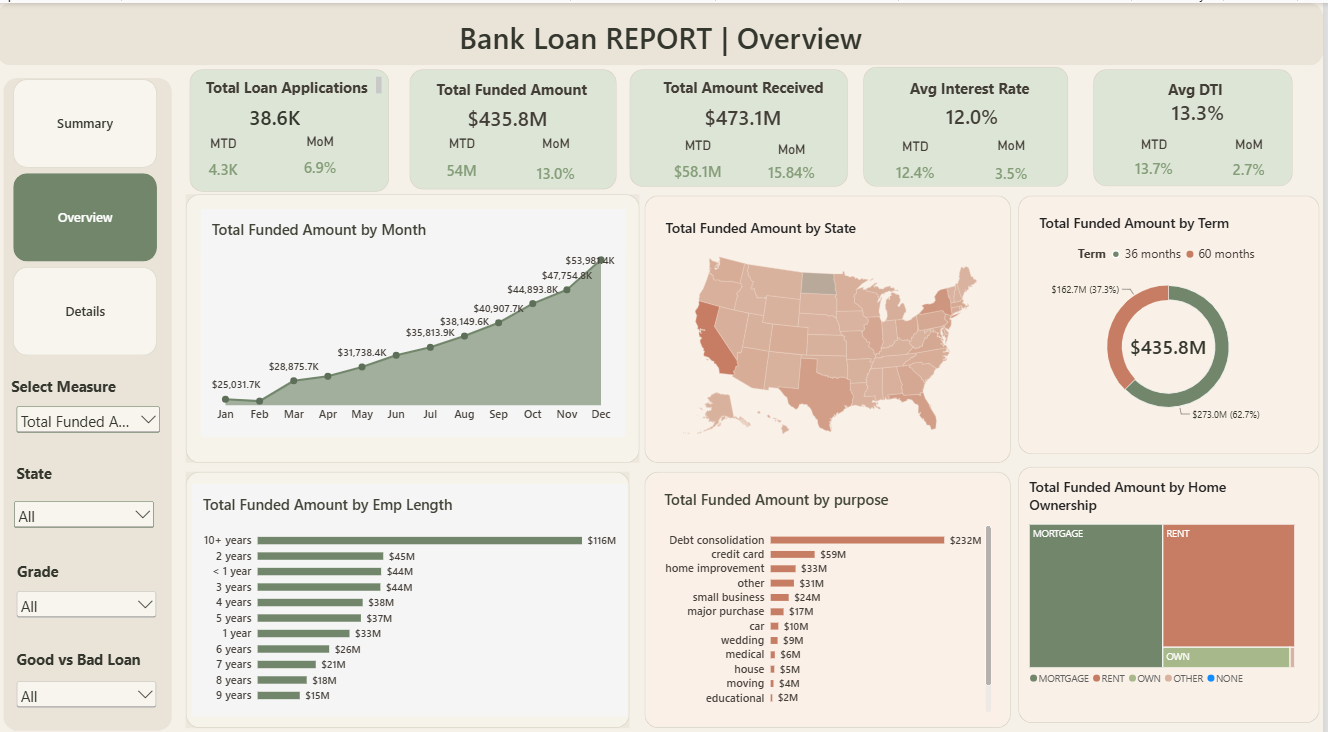

What the dashboard file says about the page in this screenshot:
{"tool":"powerbi","page":{"name":"Overview","canvas":[1920,1080],"ordinal":1},"visuals":[{"type":"shape","box":[1254.1,92.3,296.8,173.9],"z":0,"group":"g4"},{"type":"shape","box":[279.1,95.9,289.1,177.3],"z":0,"group":"g1"},{"type":"shape","box":[597.2,95.9,299.9,174.1],"z":0,"group":"g2"},{"type":"shape","box":[915.7,95.9,316.3,170.2],"z":0,"group":"g3"},{"type":"shape","box":[1587.1,95.9,288.7,169.5],"z":0,"group":"g5"},{"type":"shape","box":[273.3,678.6,642.4,371],"z":0},{"type":"shape","box":[0,0,1920.1,90.5],"z":1000},{"type":"cardVisual","fields":{"Data":["public bank_loan.Avg DTI"]},"box":[1639.8,129.4,198.1,58.3],"z":1000,"group":"g5"},{"type":"cardVisual","fields":{"Data":["public bank_loan.Avg Interest Rate"]},"box":[1292.2,132.6,239.9,61.8],"z":1000,"group":"g4"},{"type":"cardVisual","fields":{"Data":["public bank_loan.Total Amount Received"]},"box":[946.6,133.5,267.5,60.6],"z":1000,"group":"g3"},{"type":"cardVisual","fields":{"Data":["public bank_loan.Total Funded Amount"]},"box":[617.1,134.8,244.7,60.2],"z":1000,"group":"g2"},{"type":"textbox","box":[1283.8,109.1,255.8,34.5],"z":2000,"group":"g4"},{"type":"textbox","box":[1617.8,111.1,240.1,33.7],"z":2000,"group":"g5"},{"type":"cardVisual","fields":{"Data":["public bank_loan.Total Loan Applications"]},"box":[307.1,133.1,189.5,60.4],"z":2000,"group":"g1"},{"type":"shape","box":[9,108.6,244.3,944.6],"z":3000},{"type":"textbox","box":[617.9,110.3,262,31.9],"z":3000,"group":"g2"},{"type":"cardVisual","title":"MTD","fields":{"Data":["public bank_loan.MTD Avg DTI"]},"box":[1604.4,192.8,139.3,69.1],"z":3000,"group":"g5"},{"type":"textbox","box":[289.1,106.9,267.4,26.1],"z":4000,"group":"g1"},{"type":"textbox","box":[924.3,107.1,317.2,46.6],"z":4000,"group":"g3"},{"type":"cardVisual","title":"MoM","fields":{"Data":["public bank_loan.MoM avg DTI"]},"box":[1749.2,192.8,124.6,70.7],"z":4000,"group":"g5"},{"type":"shape","box":[273.3,276.9,656.9,389.1],"z":4000},{"type":"textbox","box":[579.1,19.9,763.7,70.6],"z":5000},{"type":"group","id":"g1","title":"Group 1","box":[278.7,95.9,289.5,177.3],"z":6000},{"type":"group","id":"g2","title":"Group 3","box":[597.2,95.9,300.4,182.8],"z":7000},{"type":"group","id":"g3","title":"Group 4","box":[915.7,95.9,325.7,173.7],"z":8000},{"type":"group","id":"g4","title":"Group 5","box":[1254.1,92.3,296.8,181],"z":9000},{"type":"group","id":"g5","title":"Group 2","box":[1587.1,95.9,289.5,170.1],"z":10000},{"type":"cardVisual","title":"MoM","fields":{"Data":["public bank_loan.MoM Loan Application"]},"box":[409,190.3,117.1,72.8],"z":10000,"group":"g1"},{"type":"cardVisual","title":"MTD","fields":{"Data":["public bank_loan.MTD Funded Amound"]},"box":[616.3,191.4,111.7,77.9],"z":11000,"group":"g2"},{"type":"shape","box":[937.4,278.7,530.2,387.3],"z":11000},{"type":"cardVisual","title":"MoM","fields":{"Data":["public bank_loan.MoM Total funded Amount"]},"box":[740.1,191.4,137.8,86.7],"z":12000,"group":"g2"},{"type":"shapeMap","fields":{"Category":["public bank_loan.address_state"],"Value":["public bank_loan.Total Funded Amount"]},"box":[951.9,296.8,508.5,356.5],"z":12000},{"type":"slicer","fields":{"Values":["public bank_loan.address_state"]},"box":[20.3,716.7,212.5,74.6],"z":12000,"group":"g7"},{"type":"cardVisual","title":"MTD","fields":{"Data":["public bank_loan.MTD Total Amound Recieved"]},"box":[949.7,195.9,128.9,73.7],"z":13000,"group":"g3"},{"type":"shape","box":[1478.5,278.7,436.1,374.6],"z":13000},{"type":"textbox","box":[23.5,934.6,188.9,42.1],"z":13000,"group":"g7"},{"type":"cardVisual","title":"MoM","fields":{"Data":["public bank_loan.MoM Total Amount Recieved"]},"box":[1083.9,201.2,132.4,64.9],"z":14000,"group":"g3"},{"type":"donutChart","fields":{"Category":["public bank_loan.term"],"Y":["public bank_loan.Total Funded Amount"]},"box":[1493,289.5,405.4,342],"z":14000},{"type":"slicer","fields":{"Values":["public bank_loan.grade"]},"box":[23.5,846.7,212.5,74.6],"z":14000,"group":"g7"},{"type":"cardVisual","title":"MTD","fields":{"Data":["public bank_loan.MTD avg interest rate"]},"box":[1254.1,197.5,150.5,72],"z":15000,"group":"g4"},{"type":"areaChart","fields":{"Category":["Date Table.Month"],"Y":["public bank_loan.Total Funded Amount"]},"box":[295,298.6,615.3,329.4],"z":15000},{"type":"textbox","box":[10.9,665.5,85.9,52.2],"z":15000,"group":"g7"},{"type":"cardVisual","title":"MoM","fields":{"Data":["public bank_loan.MoM Avg Int Rate"]},"box":[1403.7,195,127.7,78.3],"z":16000,"group":"g4"},{"type":"clusteredBarChart","fields":{"Category":["public bank_loan.emp_length"],"Y":["public bank_loan.Total Funded Amount"]},"box":[282.3,696.7,630.6,336.2],"z":16000},{"type":"textbox","box":[10.9,806.5,102.3,51.6],"z":16000,"group":"g7"},{"type":"cardVisual","title":"MTD","fields":{"Data":["public bank_loan.MTD Funded Amount"]},"box":[278.7,192,97.3,72.8],"z":17000,"group":"g1"},{"type":"shape","box":[937.4,678.6,530.2,371],"z":17000},{"type":"slicer","fields":{"Values":["public bank_loan.Good Vs Bad Loan"]},"box":[23.5,976.7,212.5,78.4],"z":17000,"group":"g7"},{"type":"barChart","fields":{"Category":["public bank_loan.purpose"],"Y":["public bank_loan.Total Funded Amount"]},"box":[950.1,689.5,505.3,353.3],"z":18000},{"type":"slicer","fields":{"Values":["Select Measure.Select Measure"]},"box":[23.5,579,217.2,80.3],"z":19000,"group":"g7"},{"type":"shape","box":[1478.5,671.4,436.1,371],"z":19000},{"type":"textbox","box":[14,538.9,163.7,40.1],"z":20000,"group":"g7"},{"type":"treemap","fields":{"Group":["public bank_loan.home_ownership"],"Values":["public bank_loan.Total Funded Amount"]},"box":[1478.5,671.4,416,336.2],"z":20000},{"type":"group","id":"g6","title":"Group 7","box":[10.9,110.4,229.8,944.6],"z":20001},{"type":"pageNavigator","box":[23.3,110.4,208.6,401.9],"z":22000,"group":"g6"},{"type":"group","id":"g7","title":"Group 6","box":[10.9,538.9,229.8,516.1],"z":23000,"group":"g6"}]}

Visuals, with their boxes in screenshot pixels (x1, y1, x2, y2), scaled from the page's 1920x1080 canvas onto the 1328x732 screenshot:
shape: rect(867, 63, 1073, 180)
shape: rect(193, 65, 393, 185)
shape: rect(413, 65, 620, 183)
shape: rect(633, 65, 852, 180)
shape: rect(1098, 65, 1297, 180)
shape: rect(189, 460, 633, 711)
shape: rect(0, 0, 1327, 61)
cardVisual - public bank_loan.Avg DTI: rect(1134, 88, 1271, 127)
cardVisual - public bank_loan.Avg Interest Rate: rect(894, 90, 1060, 132)
cardVisual - public bank_loan.Total Amount Received: rect(655, 90, 840, 132)
cardVisual - public bank_loan.Total Funded Amount: rect(427, 91, 596, 132)
textbox: rect(888, 74, 1065, 97)
textbox: rect(1119, 75, 1285, 98)
cardVisual - public bank_loan.Total Loan Applications: rect(212, 90, 343, 131)
shape: rect(6, 74, 175, 714)
textbox: rect(427, 75, 609, 96)
"MTD" cardVisual: rect(1110, 131, 1206, 178)
textbox: rect(200, 72, 385, 90)
textbox: rect(639, 73, 859, 104)
"MoM" cardVisual: rect(1210, 131, 1296, 179)
shape: rect(189, 188, 643, 451)
textbox: rect(401, 13, 929, 61)
"Group 1" group: rect(193, 65, 393, 185)
"Group 3" group: rect(413, 65, 621, 189)
"Group 4" group: rect(633, 65, 859, 183)
"Group 5" group: rect(867, 63, 1073, 185)
"Group 2" group: rect(1098, 65, 1298, 180)
"MoM" cardVisual: rect(283, 129, 364, 178)
"MTD" cardVisual: rect(426, 130, 504, 183)
shape: rect(648, 189, 1015, 451)
"MoM" cardVisual: rect(512, 130, 607, 188)
shapeMap - public bank_loan.address_state x public bank_loan.Total Funded Amount: rect(658, 201, 1010, 443)
slicer - public bank_loan.address_state: rect(14, 486, 161, 536)
"MTD" cardVisual: rect(657, 133, 746, 183)
shape: rect(1023, 189, 1324, 443)
textbox: rect(16, 633, 147, 662)
"MoM" cardVisual: rect(750, 136, 841, 180)
donutChart - public bank_loan.term x public bank_loan.Total Funded Amount: rect(1033, 196, 1313, 428)
slicer - public bank_loan.grade: rect(16, 574, 163, 624)
"MTD" cardVisual: rect(867, 134, 972, 183)
areaChart - Date Table.Month x public bank_loan.Total Funded Amount: rect(204, 202, 630, 426)
textbox: rect(8, 451, 67, 486)
"MoM" cardVisual: rect(971, 132, 1059, 185)
clusteredBarChart - public bank_loan.emp_length x public bank_loan.Total Funded Amount: rect(195, 472, 631, 700)
textbox: rect(8, 547, 78, 582)
"MTD" cardVisual: rect(193, 130, 260, 179)
shape: rect(648, 460, 1015, 711)
slicer - public bank_loan.Good Vs Bad Loan: rect(16, 662, 163, 715)
barChart - public bank_loan.purpose x public bank_loan.Total Funded Amount: rect(657, 467, 1007, 707)
slicer - Select Measure.Select Measure: rect(16, 392, 166, 447)
shape: rect(1023, 455, 1324, 707)
textbox: rect(10, 365, 123, 392)
treemap - public bank_loan.home_ownership x public bank_loan.Total Funded Amount: rect(1023, 455, 1310, 683)
"Group 7" group: rect(8, 75, 166, 715)
pageNavigator: rect(16, 75, 160, 347)
"Group 6" group: rect(8, 365, 166, 715)
